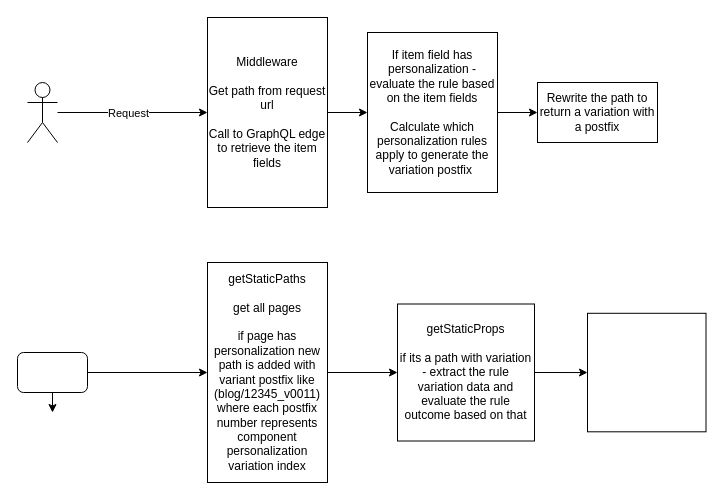
Some shapes in this 724 by 500 pixel diagram are drawn without their labels. Each missing label, with the centre of its shape:
Actor: pixel 42 112
rewritePath remove the variation path from url: pixel 646 372
Site Build: pixel 52 372
